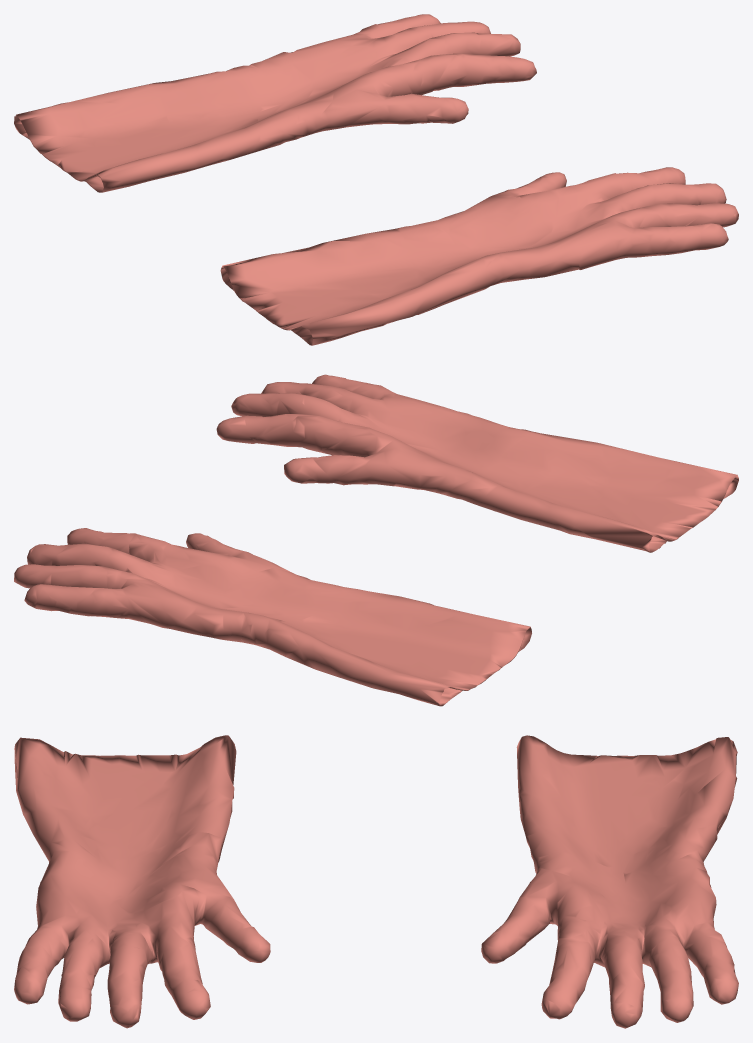
Rendered from gloves.glb.
3 views of the same model, one above another, from view 1: azimuth 30°, elevation 25°; view 2: azimuth 150°, elevation 25°; view 3: azimuth 270°, elevation 25° (orthographic). The views are drawn at different scales.
Visible parts, largest first — view 1: geometry_0; view 2: geometry_0; view 3: geometry_0.
Boxes of the visible parts, x1,y1,x2,y2 form: geometry_0: [14, 14, 738, 345]; geometry_0: [14, 374, 738, 706]; geometry_0: [14, 735, 738, 1028].
Size of the model in its own units: 0.4151 by 0.0312 by 0.4651.
